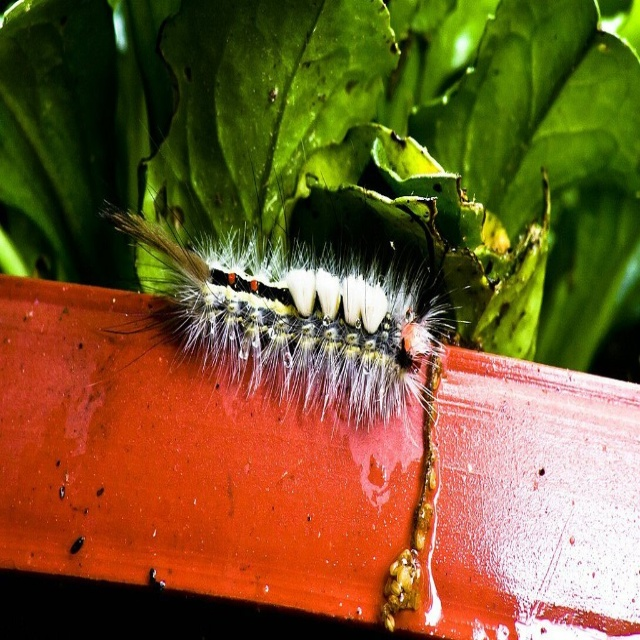Caterpillar: (85, 140, 474, 446)
